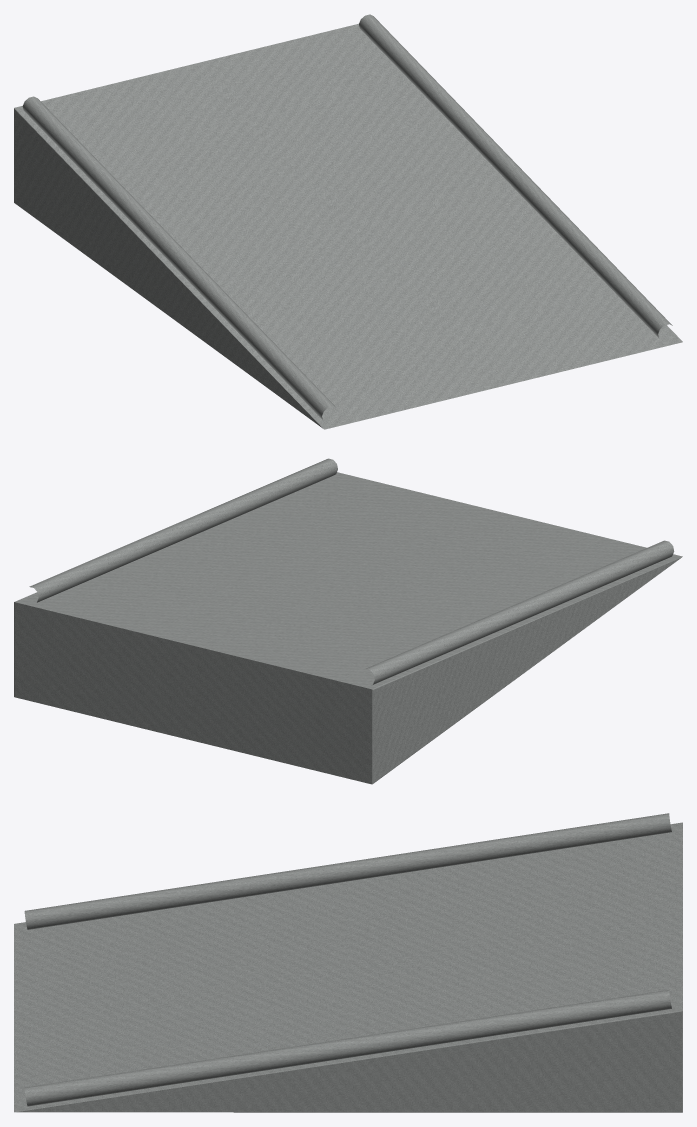
The model's file is liminal-spaces-kit-parking-ramp-cfd061f5__25304.glb.
3 renders of one model, top to bottom at view 1: azimuth 30°, elevation 25°; view 2: azimuth 150°, elevation 25°; view 3: azimuth 270°, elevation 25°, orthographic. The views are drawn at different scales.
Visible parts, largest first — view 1: parking-ramp; view 2: parking-ramp; view 3: parking-ramp.
Boxes of the visible parts, x1,y1,x2,y2 form: parking-ramp: [14, 14, 682, 429]; parking-ramp: [14, 458, 682, 784]; parking-ramp: [14, 813, 682, 1112].
Bounding box in the file's own units: 2.01 × 0.5761 × 3.01.
Materials: 1 (1 with a texture image).
